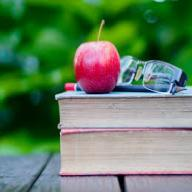apple: (71, 38, 120, 92)
